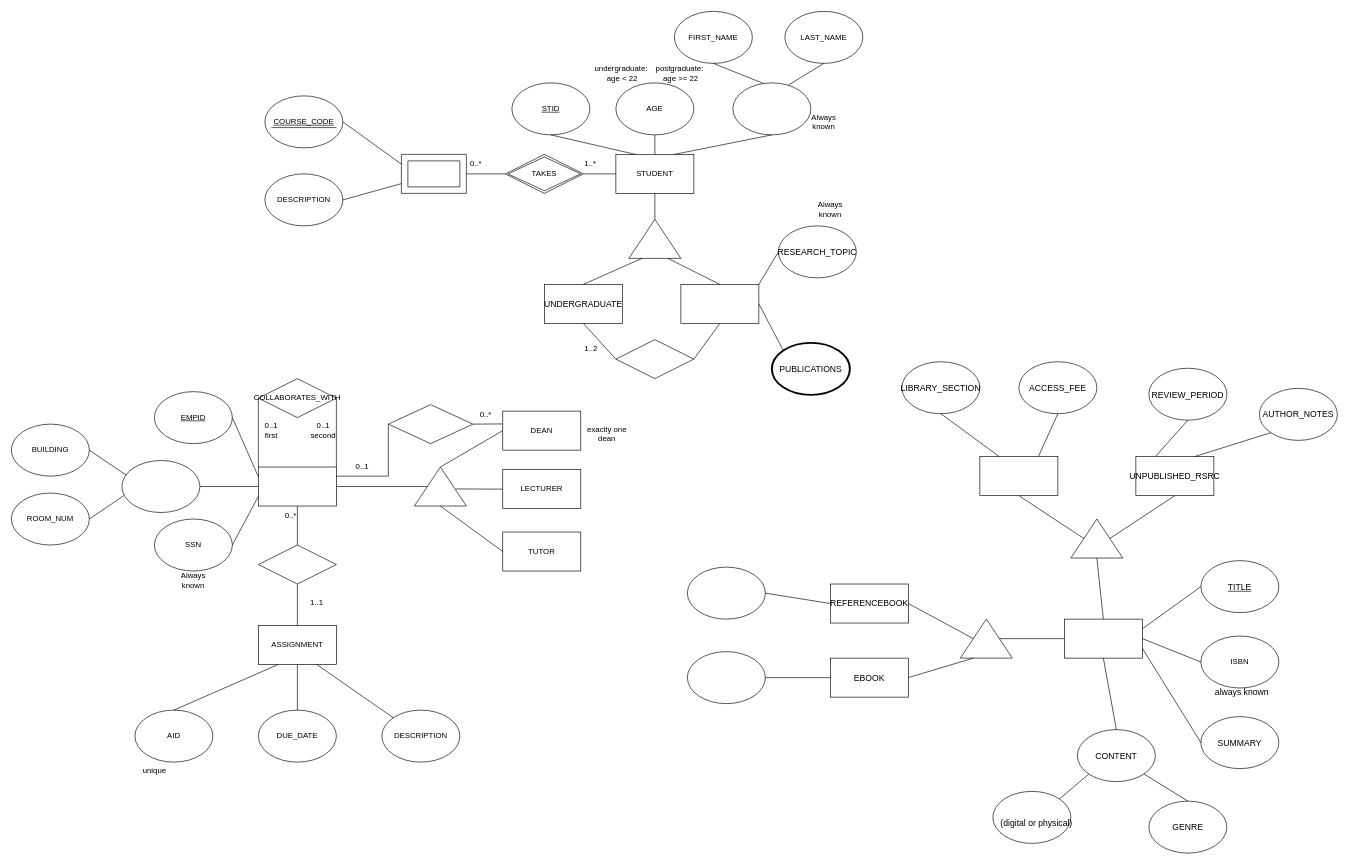
Some shapes in this 1349 by 864 pixel diagram are drawn without their labels. The box of each missing label's shape, as (x1, y1, x2, y2) in pixels:
ASSIGNED_BY: (258, 544, 336, 584)
COURSE: (401, 154, 466, 193)
D, T: (628, 219, 681, 258)
D,P: (1070, 518, 1123, 558)
D,T: (414, 466, 466, 506)
DEPARTMENT_LOCATION: (121, 460, 200, 513)
DOWN LOAD_LIMIT: (687, 651, 765, 704)
FORMAT: (992, 791, 1071, 843)
FULL_NAME: (732, 82, 811, 135)
MENTORED_BY: (615, 339, 694, 379)
O,T: (960, 618, 1012, 658)
POSTGRADUATE: (680, 284, 759, 323)
PROFESSOR: (258, 466, 336, 506)
RESTRICTED_RSRC: (979, 456, 1058, 496)
SUBJECT: (687, 566, 765, 619)
SUPERVISED: (388, 404, 473, 444)
TEXTBOOK: (1064, 618, 1142, 658)
